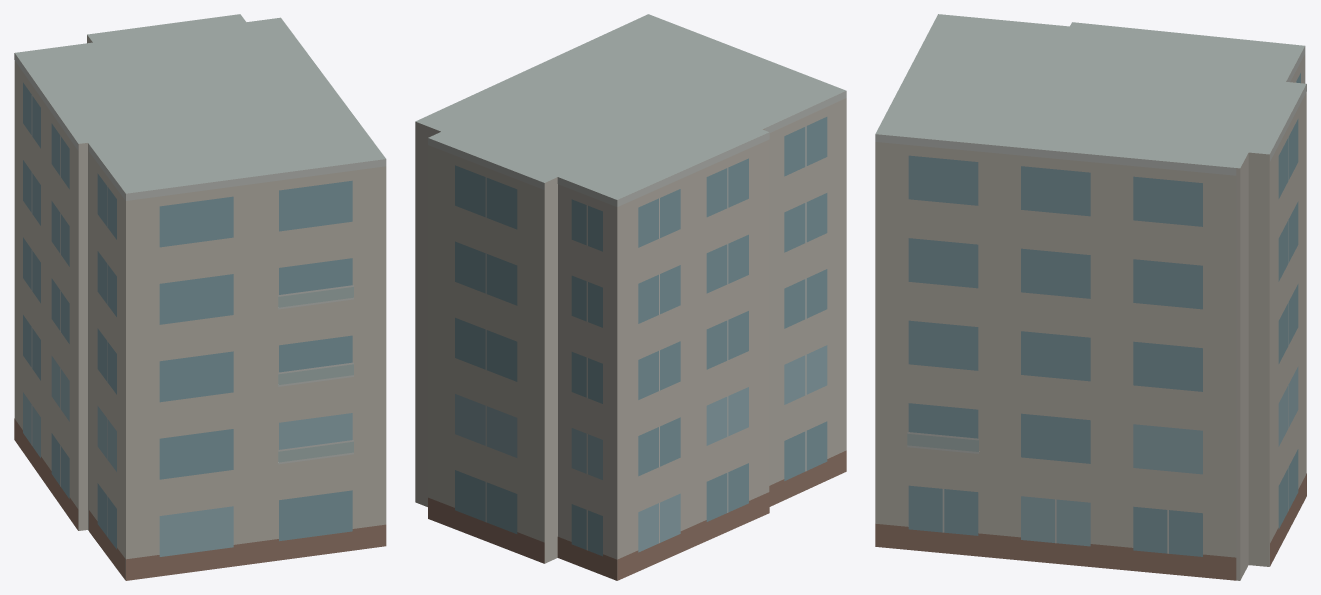
The model's file is survey-upis-33003709.glb.
3 renders of one model, left to right at view 1: azimuth 30°, elevation 25°; view 2: azimuth 150°, elevation 25°; view 3: azimuth 270°, elevation 25°, orthographic. The views are drawn at different scales.
Visible parts, largest first — view 1: survey-upis-33003709.tmp; view 2: survey-upis-33003709.tmp; view 3: survey-upis-33003709.tmp.
Part boxes in pixels (box(x1,y1,x2,y2)): survey-upis-33003709.tmp: box(14, 14, 386, 580); survey-upis-33003709.tmp: box(415, 14, 846, 580); survey-upis-33003709.tmp: box(875, 14, 1306, 580).
Size of the model in its own units: 10.43 by 13 by 12.33.
